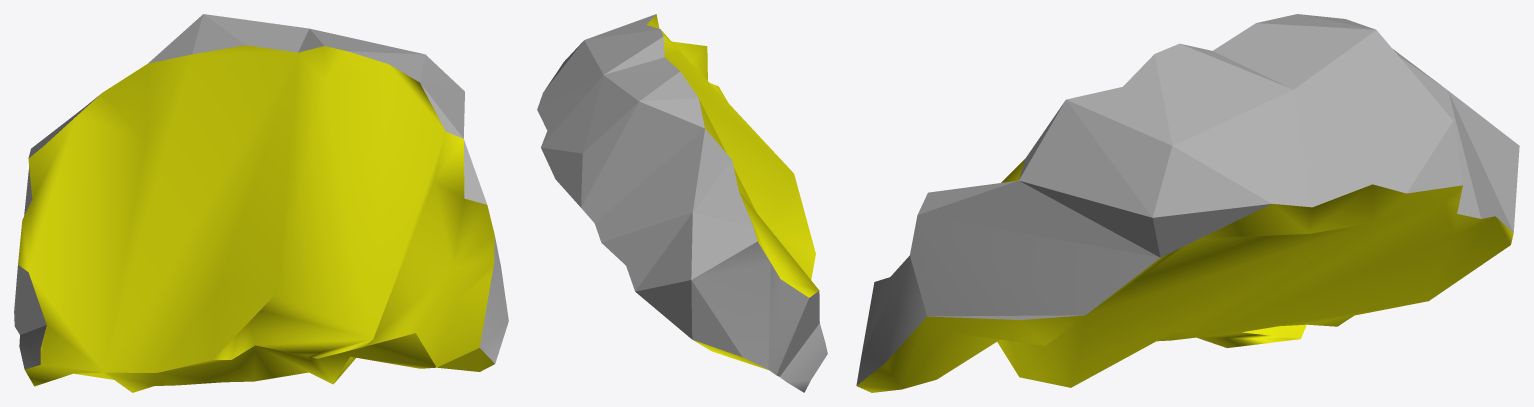
The model's file is rock_shard3.fbx.
The picture shows the model from 3 angles, left to right: view 1: azimuth 30°, elevation 25°; view 2: azimuth 150°, elevation 25°; view 3: azimuth 270°, elevation 25°; orthographic projection. The views are drawn at different scales.
Visible parts, largest first — view 1: rock_shard3; view 2: rock_shard3; view 3: rock_shard3.
Boxes of the visible parts, bbox=[...] form: rock_shard3: bbox=[14, 14, 508, 392]; rock_shard3: bbox=[537, 14, 827, 392]; rock_shard3: bbox=[856, 14, 1519, 392].
Size of the model in its own units: 61.36 by 51.82 by 72.49.
